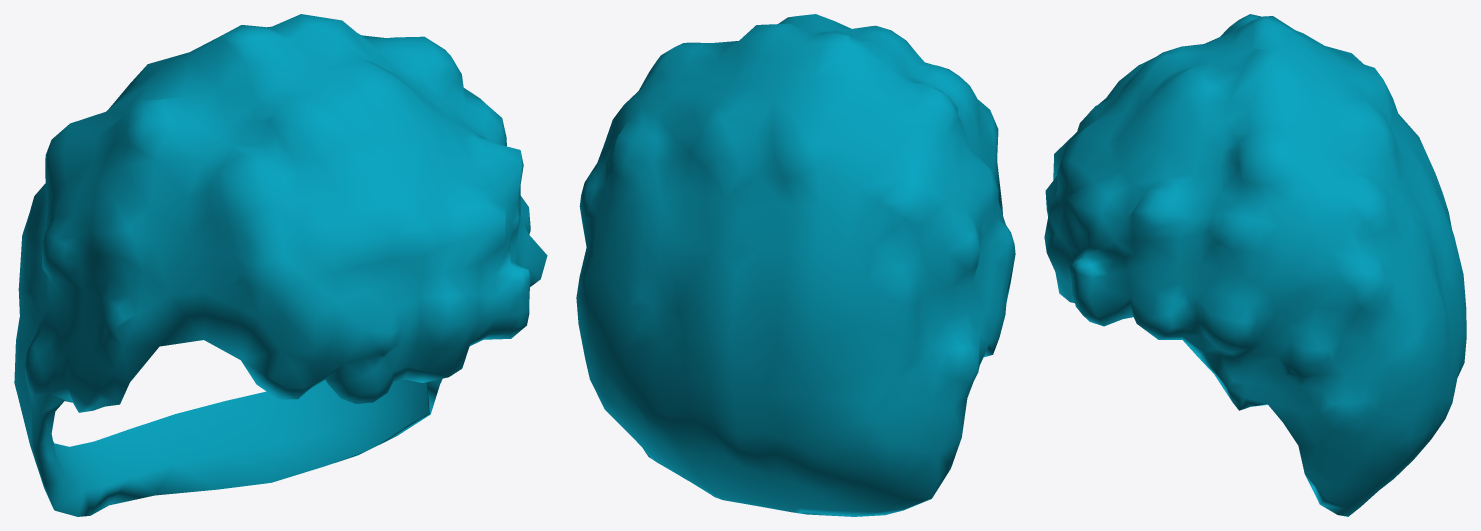
The model's file is hair_08.glb.
3 views of the same model, side by side, from view 1: azimuth 30°, elevation 25°; view 2: azimuth 150°, elevation 25°; view 3: azimuth 270°, elevation 25° (orthographic). The views are drawn at different scales.
Parts seen in each view (by area): view 1: hair_08; view 2: hair_08; view 3: hair_08.
Part boxes in pixels (x1,y1,x2,y2): hair_08: (14, 14, 547, 516); hair_08: (576, 14, 1015, 516); hair_08: (1044, 14, 1466, 516).
Size of the model in its own units: 0.00991 by 0.0108 by 0.00937.
